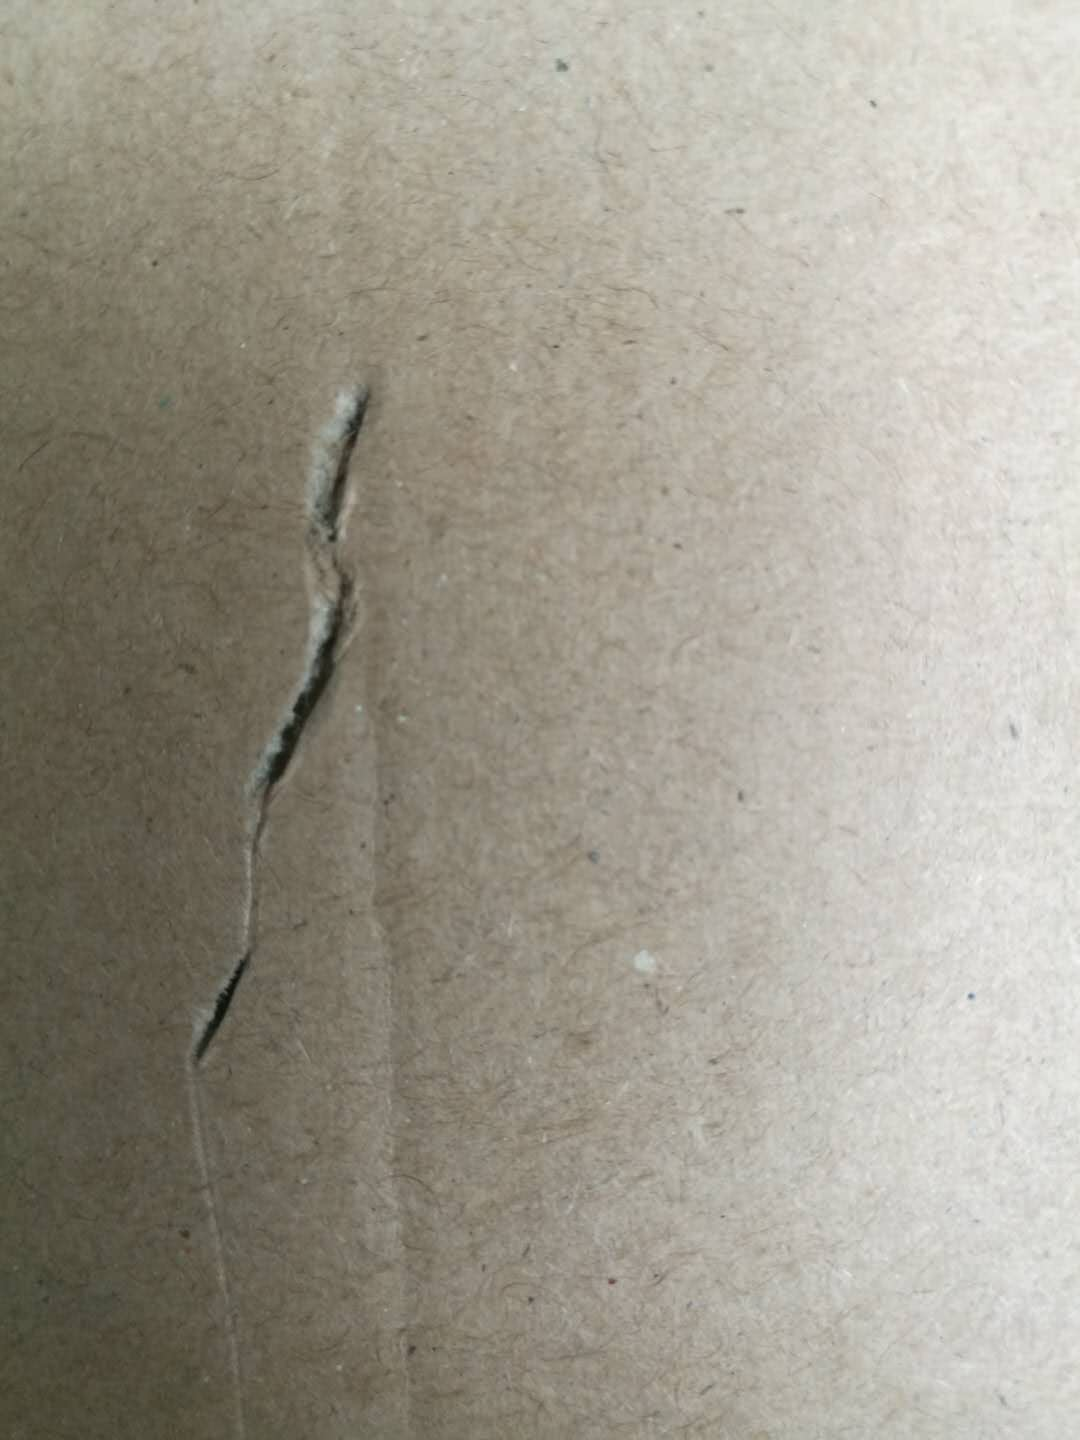defect: (123, 336, 459, 1440)
